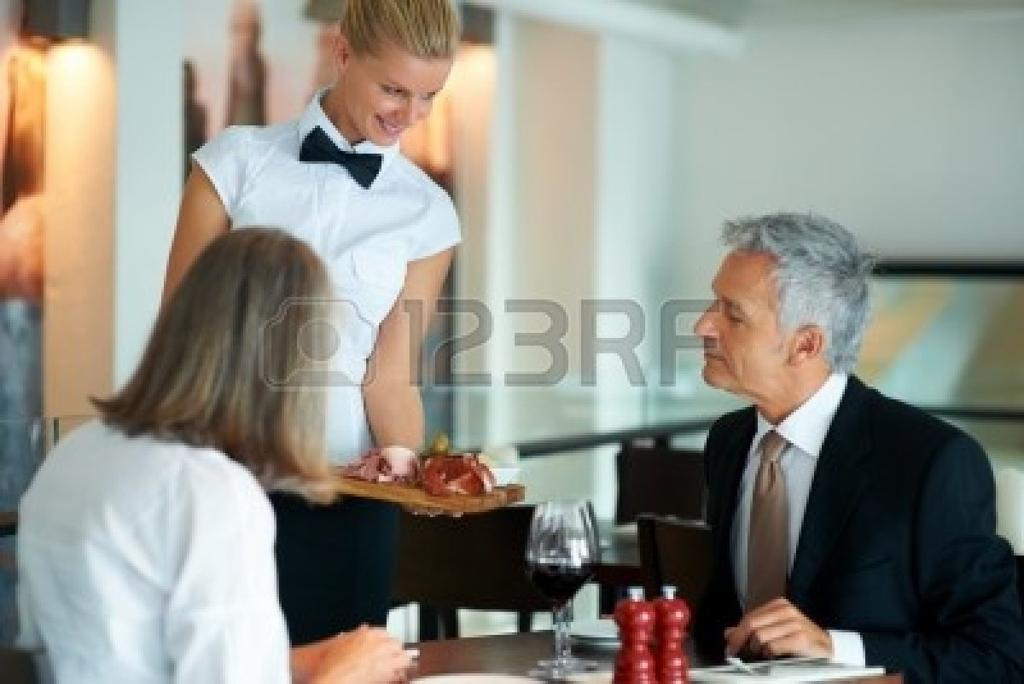face: (696, 250, 788, 390), (346, 34, 456, 146)
